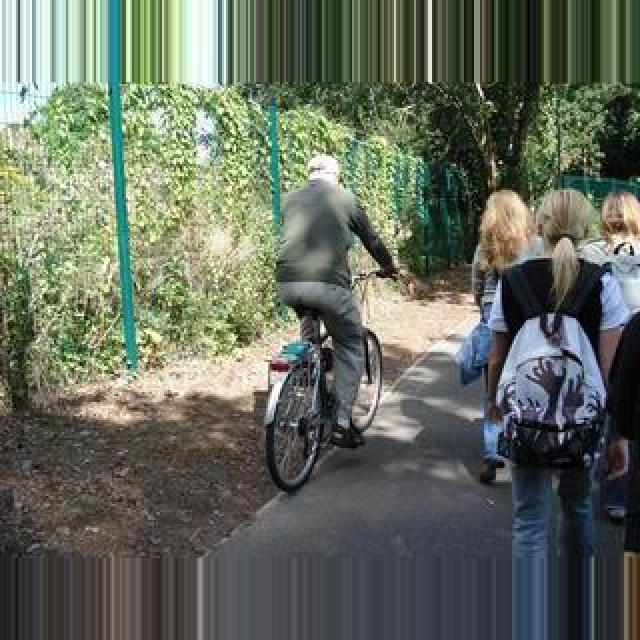MC-Bike: (488, 206, 614, 558), (274, 154, 402, 454)
Person: (262, 294, 388, 496)
